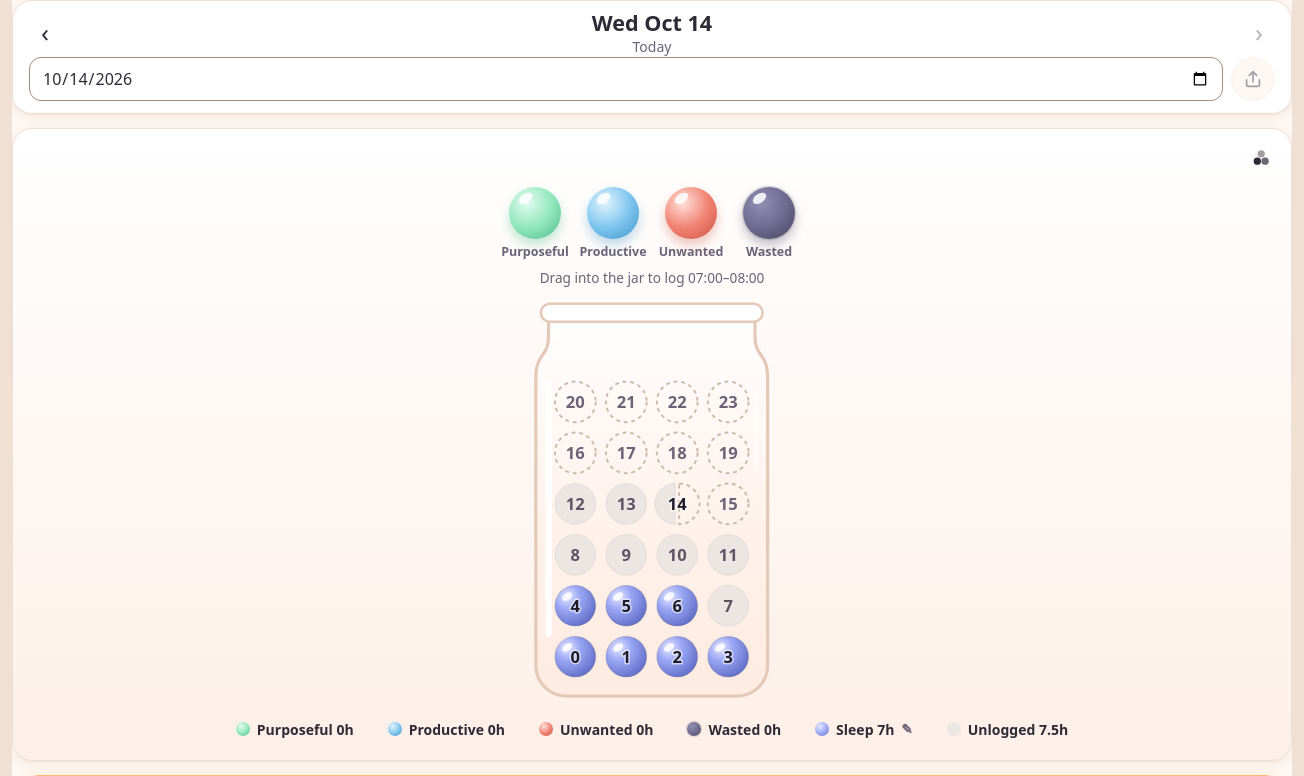
Test: DayView drag-to-drop tray › logs the first gap as the dropped category and offers Undo
Press the mouse on the button named "Log 07:00–08:00 as Productive" at (613, 213), box [587,187,639,239]
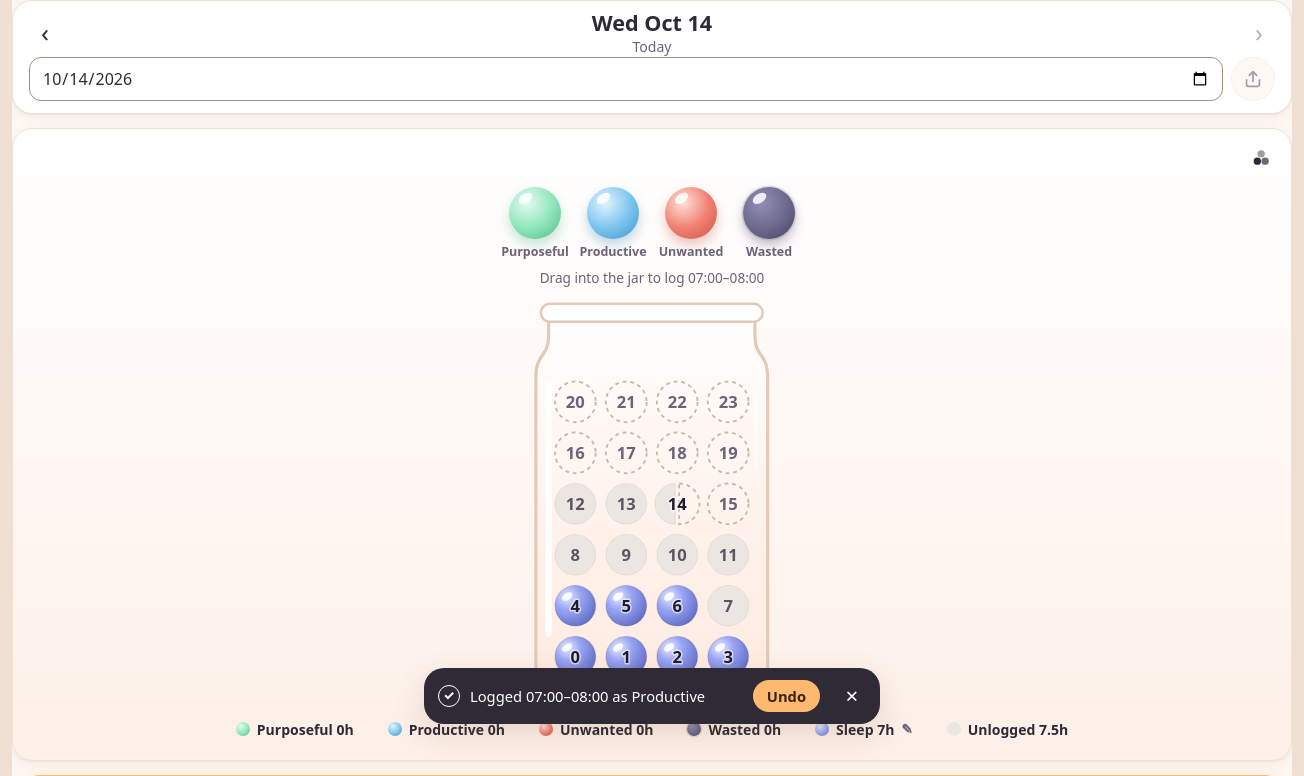
Result: the text "Logged 07:00–08:00 as Productive" is shown at [470,685,743,707]
Result: the button "Undo" is shown at [753,680,820,712]
